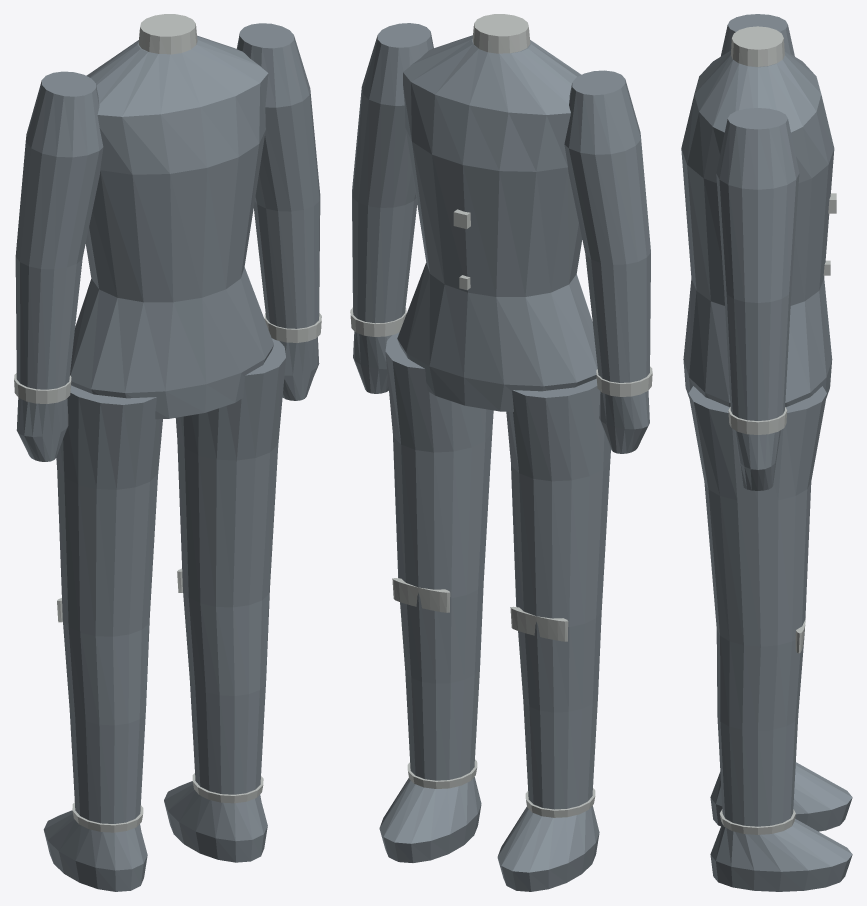
File: visual-far.glb
3 views of the same model, side by side, from view 1: azimuth 30°, elevation 25°; view 2: azimuth 150°, elevation 25°; view 3: azimuth 270°, elevation 25° (orthographic). The views are drawn at different scales.
Visible parts, largest first — view 1: 精细体素成年人体母版B（圆柔肩胯）; view 2: 精细体素成年人体母版B（圆柔肩胯）; view 3: 精细体素成年人体母版B（圆柔肩胯）.
Part boxes in pixels (x1,y1,x2,y2): 精细体素成年人体母版B（圆柔肩胯）: [14, 14, 321, 891]; 精细体素成年人体母版B（圆柔肩胯）: [350, 14, 652, 891]; 精细体素成年人体母版B（圆柔肩胯）: [681, 14, 852, 891].
Size of the model in its own units: 0.5543 by 1.47 by 0.2823.
2 materials, 2 textured.
